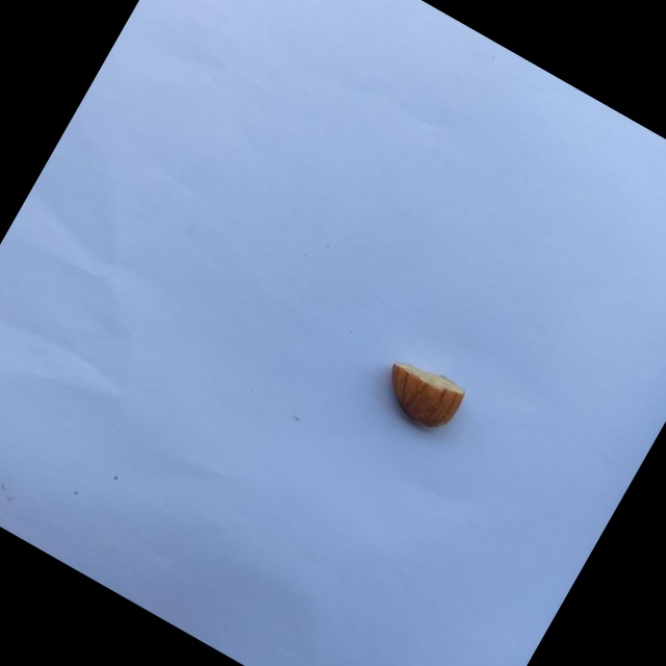grade4: (363, 344, 478, 447)
